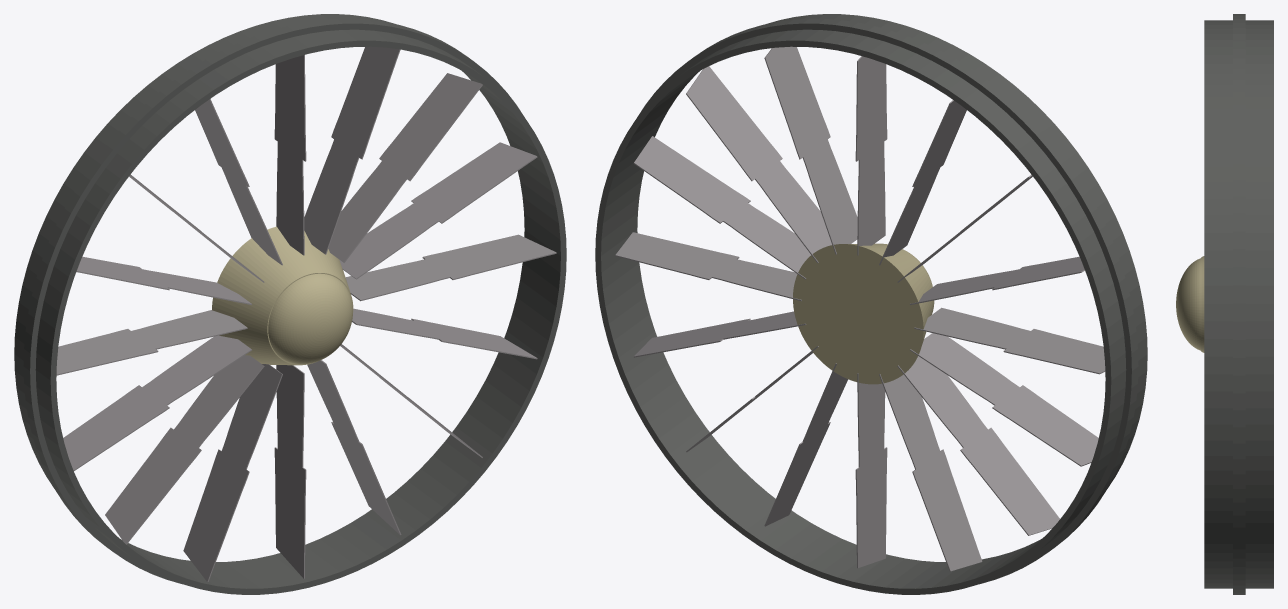
The model's file is Front_frame_ensamble.glb.
3 renders of one model, left to right at view 1: azimuth 30°, elevation 25°; view 2: azimuth 150°, elevation 25°; view 3: azimuth 270°, elevation 25°, orthographic. The views are drawn at different scales.
Parts seen in each view (by area): view 1: frontframeblade, frontframe, frontcone; view 2: frontframeblade, frontframe, frontcone; view 3: frontframe, frontcone.
Part boxes in pixels (x1,y1,x2,y2): frontframeblade: (56,46,556,581); frontframe: (14,14,566,594); frontcone: (212,226,353,365); frontframeblade: (615,46,1105,571); frontframe: (595,14,1147,594); frontcone: (793,243,934,384); frontframe: (1204,14,1273,594); frontcone: (1176,256,1204,352).
Size of the model in its own units: 460 by 460 by 77.49.
